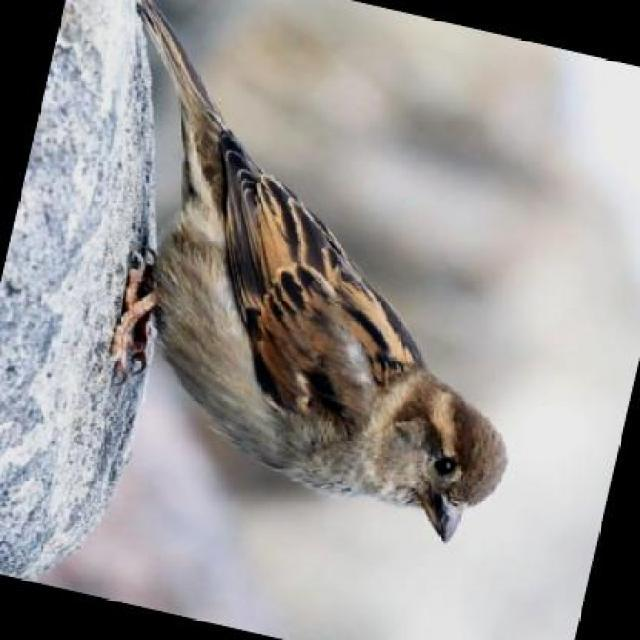Bird: (110, 0, 546, 542)
